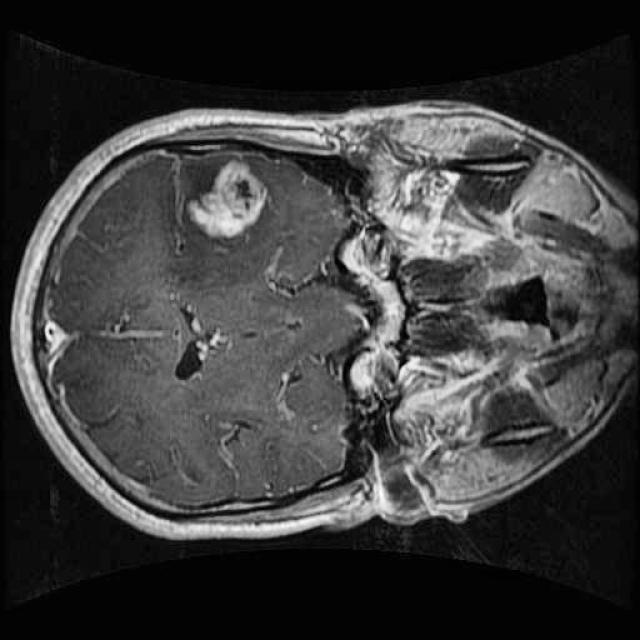Non-Tumor: (174, 145, 281, 255)
